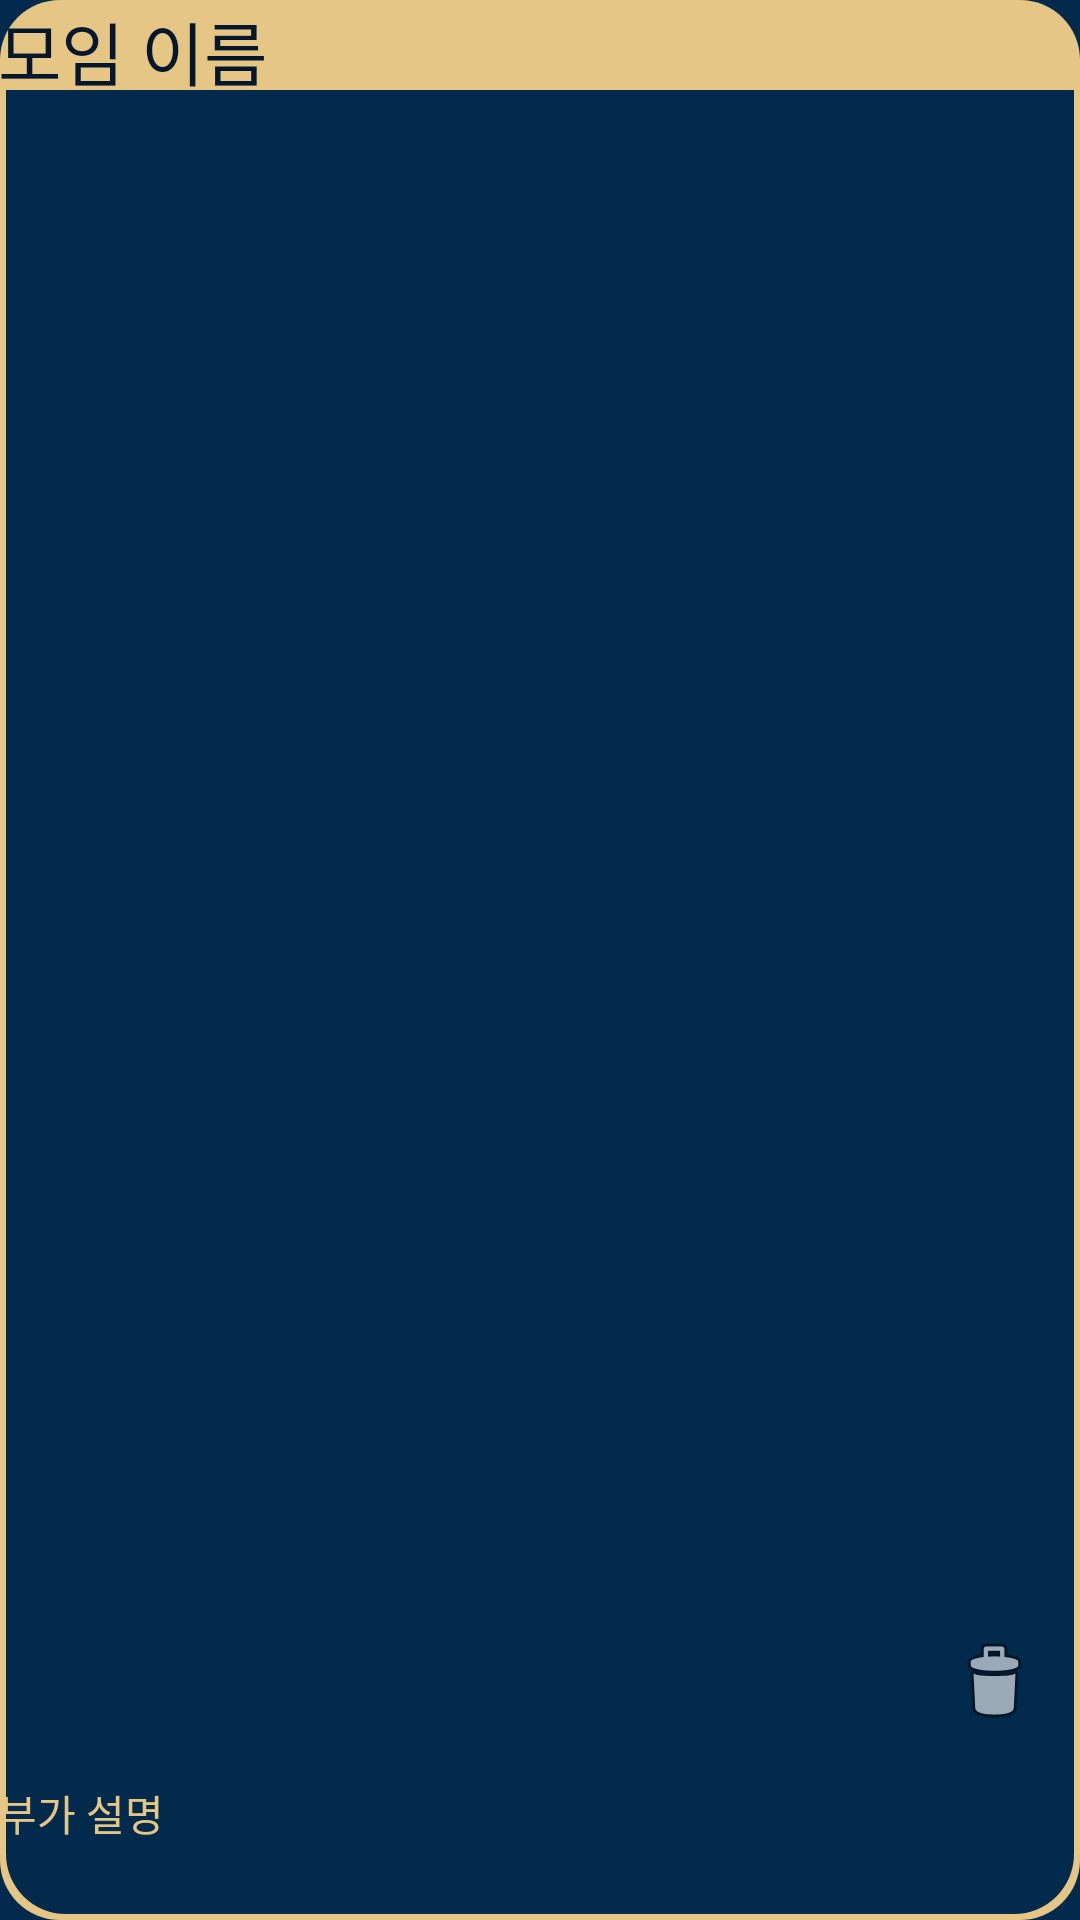

Named icons in this screenshot (1080x1920) and their centers, (x=x, y=y):
delete: (x=994, y=1680)
